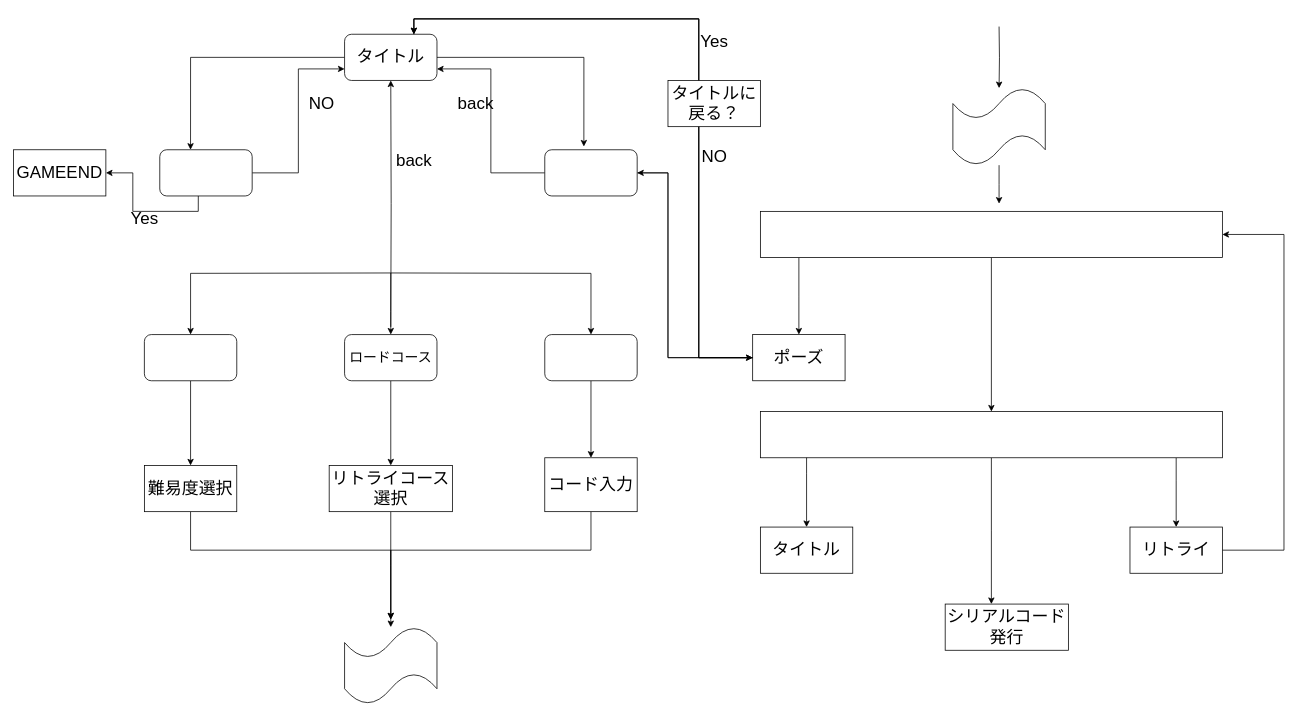
The diagram is 1304 pixels wide and 718 high, and some of its shapes have lost their labels. The shapes that lost their labels are listed below. From the top down, each one's box as (x1, y1, x2, y2) in pixels, then its label:
(159, 149, 252, 196): END？
(544, 149, 637, 196): Option
(760, 211, 1222, 258): ゲームメイン
(144, 334, 237, 381): ニューコース
(544, 334, 637, 381): passコース
(760, 411, 1222, 458): リザルト
